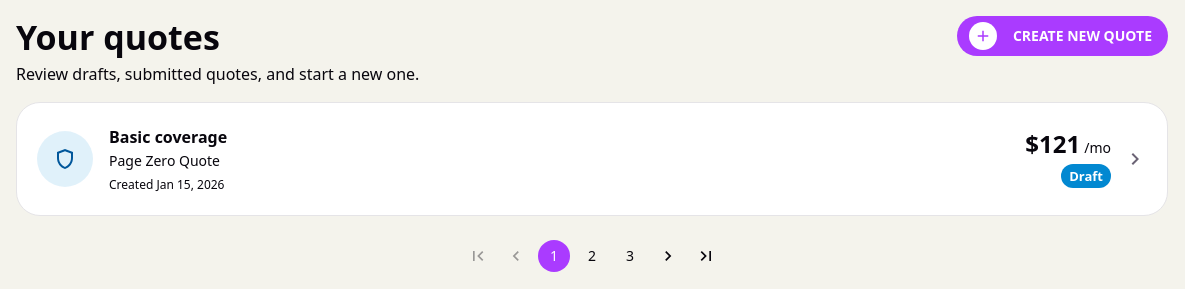
QuotesListScreen › given_multiPageList_when_pageTwoClicked_then_loadsNextPage
Expected: the heading "Basic coverage" is shown, [109,126,227,148]
Expected: the navigation bar named "pagination" is shown, [459,240,725,272]
What coordinates should you click on to do the following:
click the button named "go to page 2"
I would click on:
 (592, 256)
Its box is [576,240,608,272].
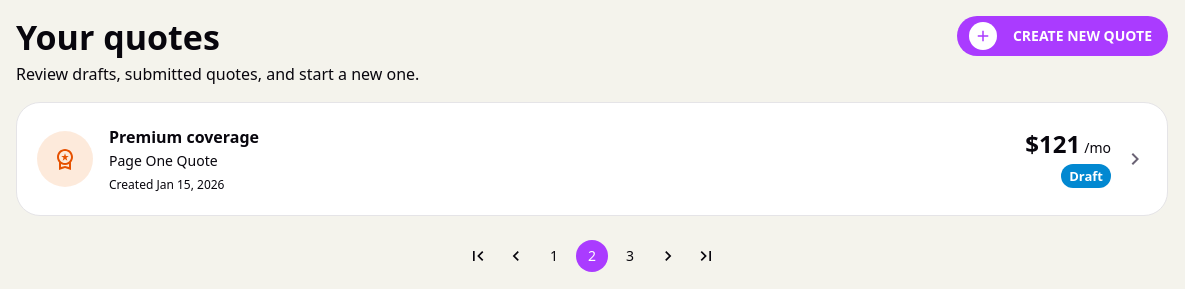
Result: the heading "Premium coverage" is shown at [109,126,259,148]
Result: the link "Basic coverage" is gone
